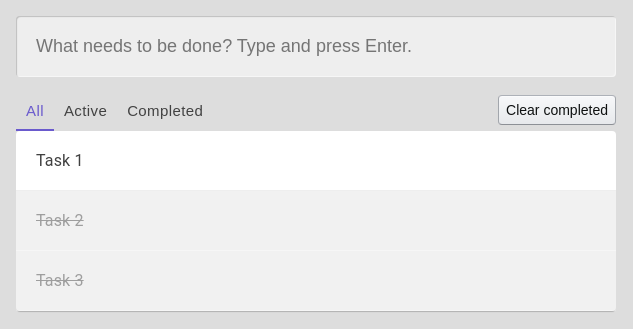
Test: Completed tasks are successfully deleted on clear button.
Click the button "Clear completed" at (557, 110), box [498,95,616,125]
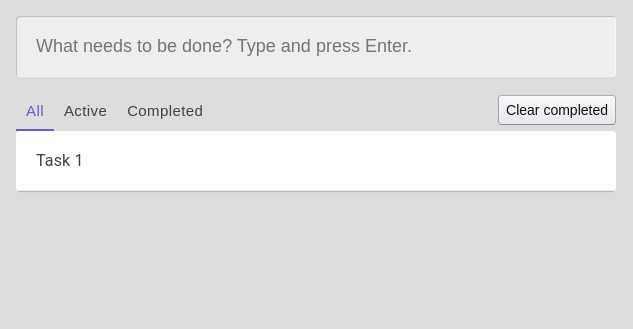
Expected: the number of list items is 1, [16,131,616,191]
